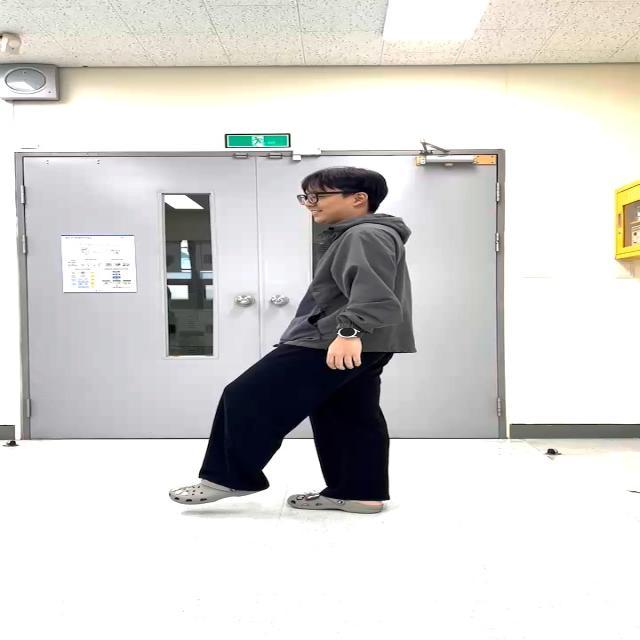leg: (165, 339, 316, 507)
